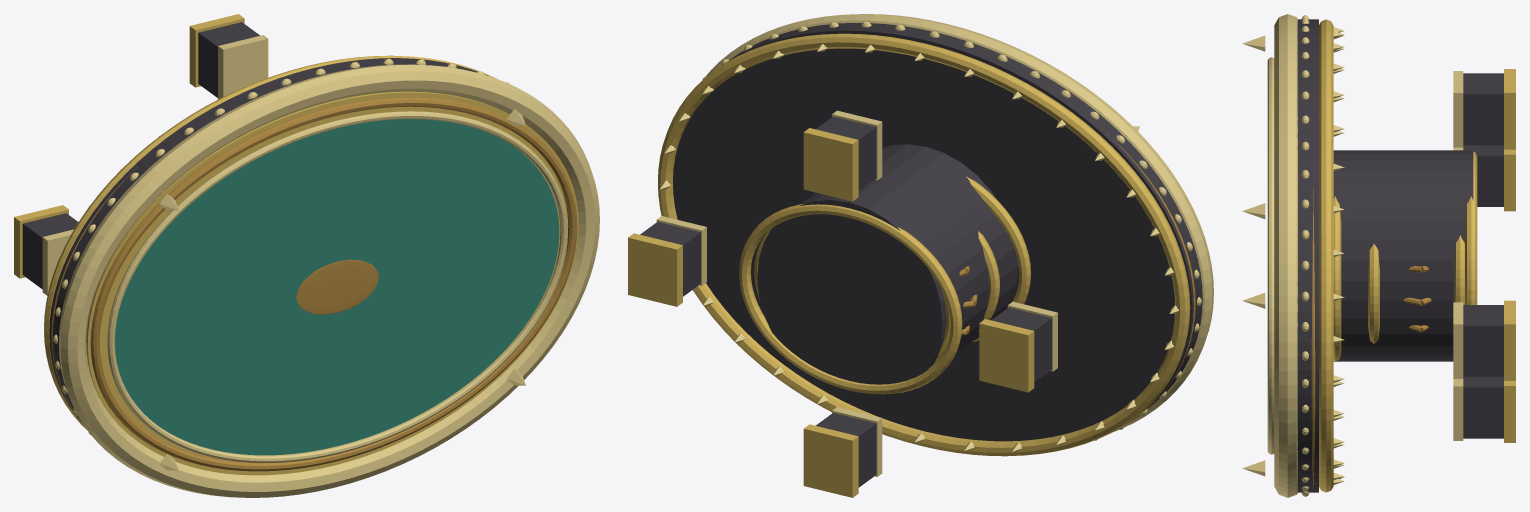
Rendered from table_royal_emerald.glb.
3 renders of one model, left to right at view 1: azimuth 30°, elevation 25°; view 2: azimuth 150°, elevation 25°; view 3: azimuth 270°, elevation 25°, orthographic.
Parts seen in each view (by area): view 1: world; view 2: world; view 3: world.
Part boxes in pixels (left/top/right/bottom): world: left=14, top=14, right=599, bottom=497; world: left=628, top=14, right=1213, bottom=497; world: left=1242, top=14, right=1515, bottom=497.
Bounding box in the file's own units: 2.85 × 2.09 × 1.27.
